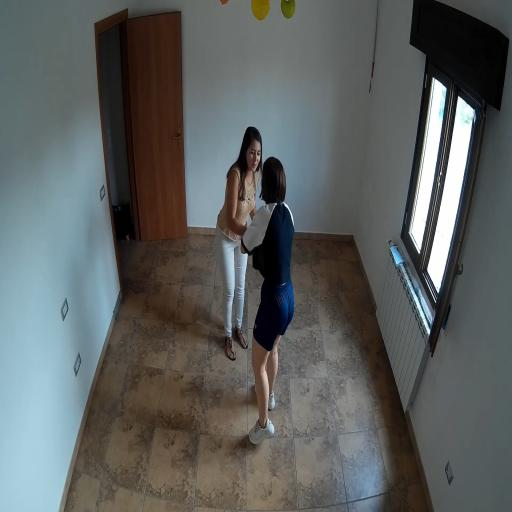nao-violencia: (200, 106, 310, 450)
